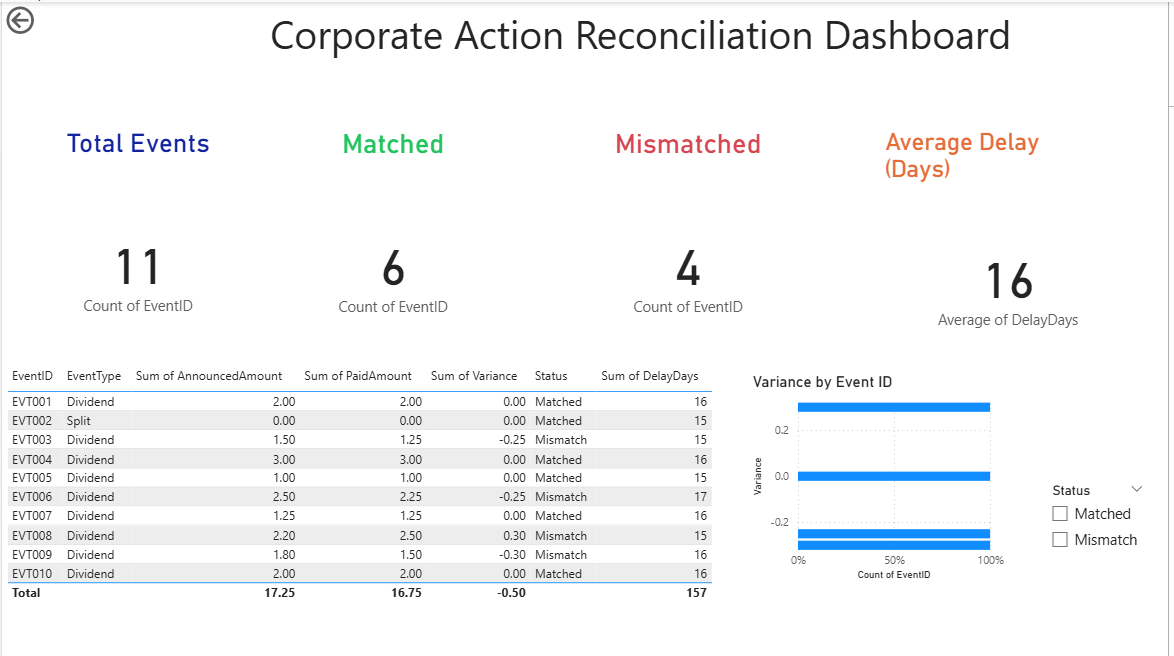

The page's visual inventory and layout, read from the dashboard file:
{"tool":"powerbi","page":{"name":"Page 1","canvas":[1280,720],"ordinal":0},"visuals":[{"type":"card","title":"Total Events","fields":{"Values":["Count(corporate_actions_reconciled.EventID)"]},"box":[9.6,137.2,279.9,279.9],"z":0},{"type":"card","title":"Matched","fields":{"Values":["Count(corporate_actions_reconciled.EventID)"]},"box":[289.5,137.2,279.9,279.9],"z":1000},{"type":"card","title":"Mismatched","fields":{"Values":["Count(corporate_actions_reconciled.EventID)"]},"box":[613.4,137.2,279.9,279.9],"z":2000},{"type":"card","title":"Average Delay (Days)","fields":{"Values":["Avg(corporate_actions_reconciled.DelayDays)"]},"box":[964.7,137.2,279.9,279.9],"z":3000},{"type":"tableEx","fields":{"Values":["corporate_actions_reconciled.EventID","corporate_actions_reconciled.EventType","Sum(corporate_actions_reconciled.AnnouncedAmount)","Sum(corporate_actions_reconciled.PaidAmount)","Sum(corporate_actions_reconciled.Variance)","corporate_actions_reconciled.Status ","Sum(corporate_actions_reconciled.DelayDays)"]},"box":[0,394.3,787.1,280],"z":4000},{"type":"actionButton","box":[0,0,100,40],"z":5000},{"type":"textbox","box":[289.5,0,872.7,85.1],"z":6000},{"type":"slicer","fields":{"Values":["corporate_actions_reconciled.Status "]},"box":[1140,522.9,124.3,107.1],"z":7000},{"type":"hundredPercentStackedBarChart","title":"Variance by Event ID","fields":{"Category":["corporate_actions_reconciled.Variance"],"Y":["CountNonNull(corporate_actions_reconciled.EventID)"]},"box":[818.6,405.7,285.7,234.3],"z":8000}]}

Visuals, with their boxes on the page's 1280x720 design canvas (x1, y1, x2, y2). These are canvas units, not pixel positions in the 1174x656 screenshot, which may show the page scaled, cropped or inside an application window:
"Total Events" card: x1=10, y1=137, x2=290, y2=417
"Matched" card: x1=290, y1=137, x2=569, y2=417
"Mismatched" card: x1=613, y1=137, x2=893, y2=417
"Average Delay (Days)" card: x1=965, y1=137, x2=1245, y2=417
tableEx - corporate_actions_reconciled.EventID x corporate_actions_reconciled.EventType: x1=0, y1=394, x2=787, y2=674
actionButton: x1=0, y1=0, x2=100, y2=40
textbox: x1=290, y1=0, x2=1162, y2=85
slicer - corporate_actions_reconciled.Status : x1=1140, y1=523, x2=1264, y2=630
"Variance by Event ID" hundredPercentStackedBarChart: x1=819, y1=406, x2=1104, y2=640
